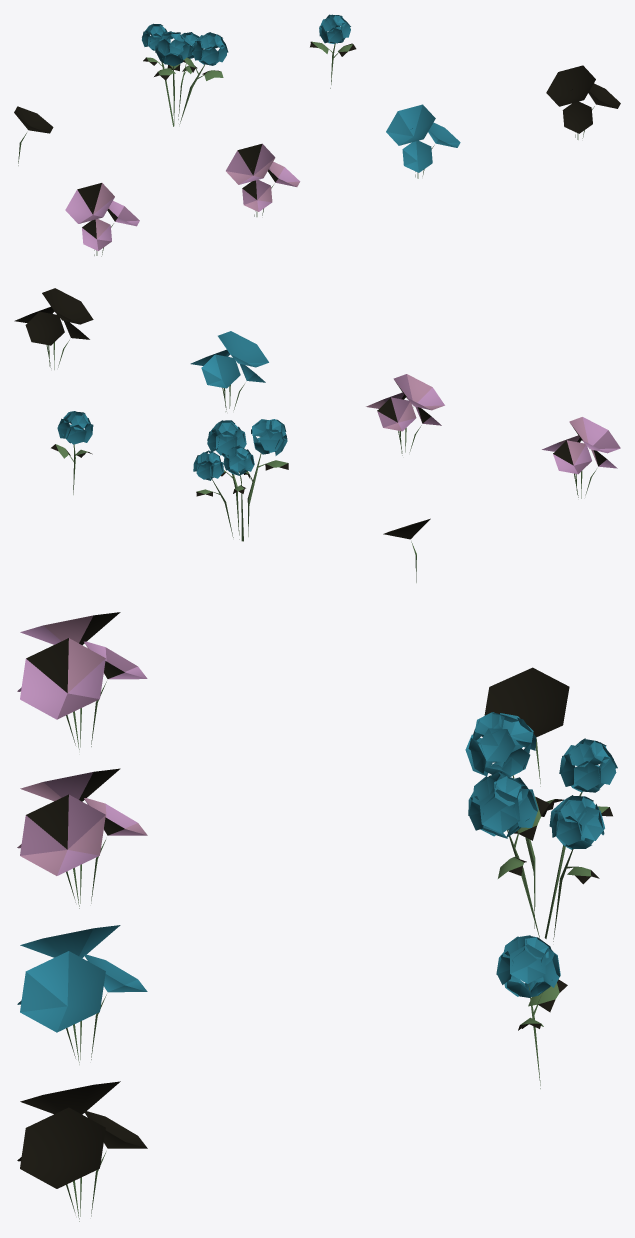
Rendered from flowers.glb.
3 views of the same model, one above another, from view 1: azimuth 30°, elevation 25°; view 2: azimuth 150°, elevation 25°; view 3: azimuth 270°, elevation 25° (orthographic). The views are drawn at different scales.
Parts seen in each view (by area): view 1: flowers; view 2: flowers; view 3: flowers.
Part boxes in pixels (x1,y1,x2,y2): flowers: [14, 14, 620, 256]; flowers: [14, 288, 620, 582]; flowers: [17, 612, 617, 1221].
Bounding box in the file's own units: 1.6 × 0.2998 × 0.7629.
